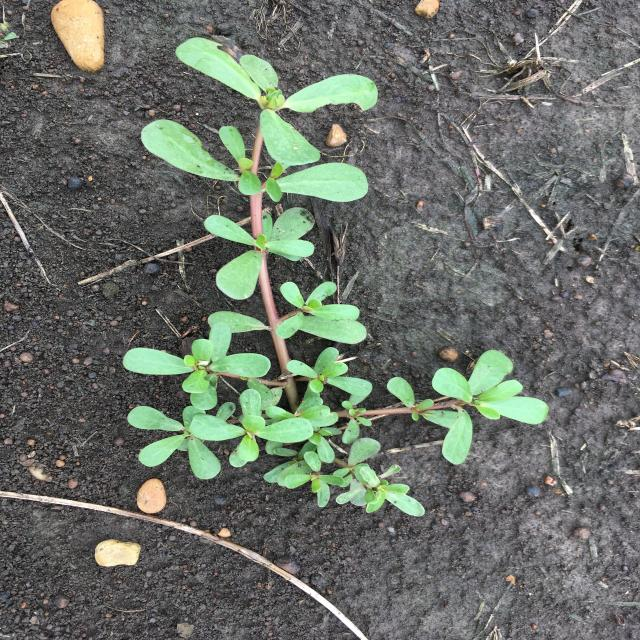Purslane: (122, 37, 549, 516)
